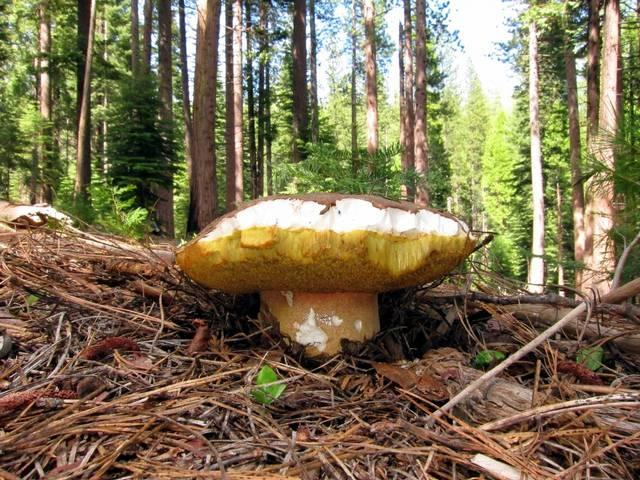Edible Mushroom: (174, 191, 494, 360)
